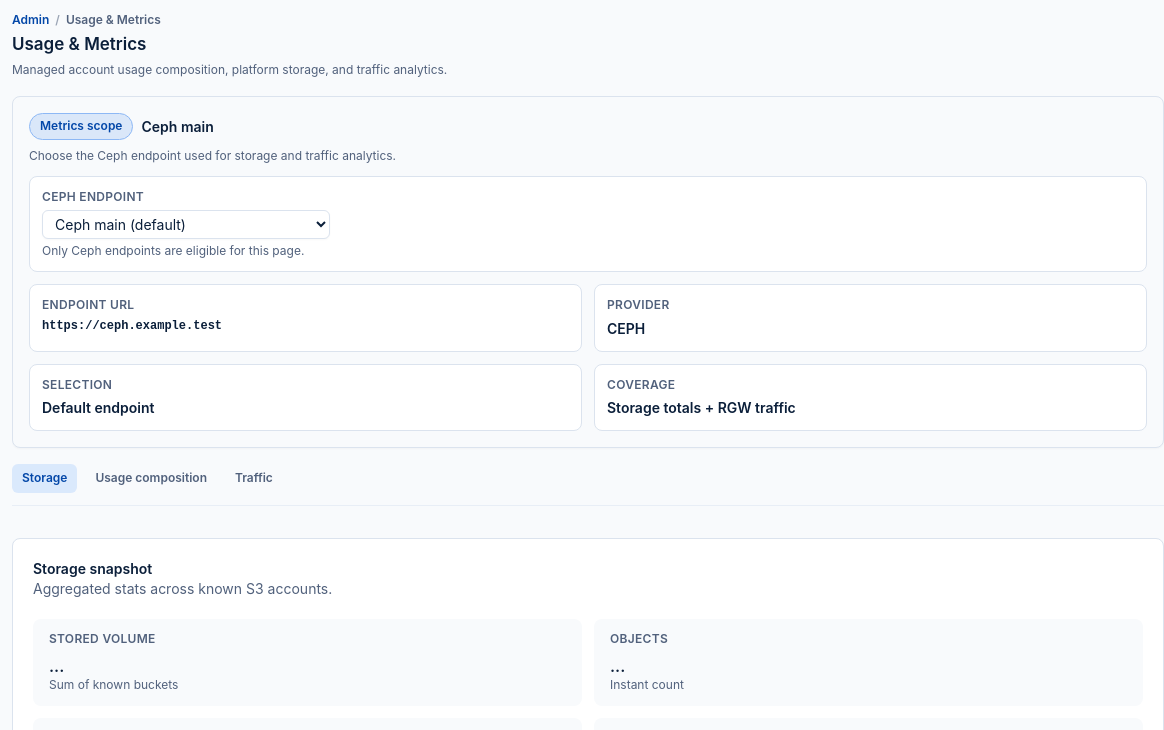
Test: AdminMetricsPage › keeps disabled usage logs inside the traffic card without empty counters
Click the tab "Traffic": (254, 478) [225,464,283,492]
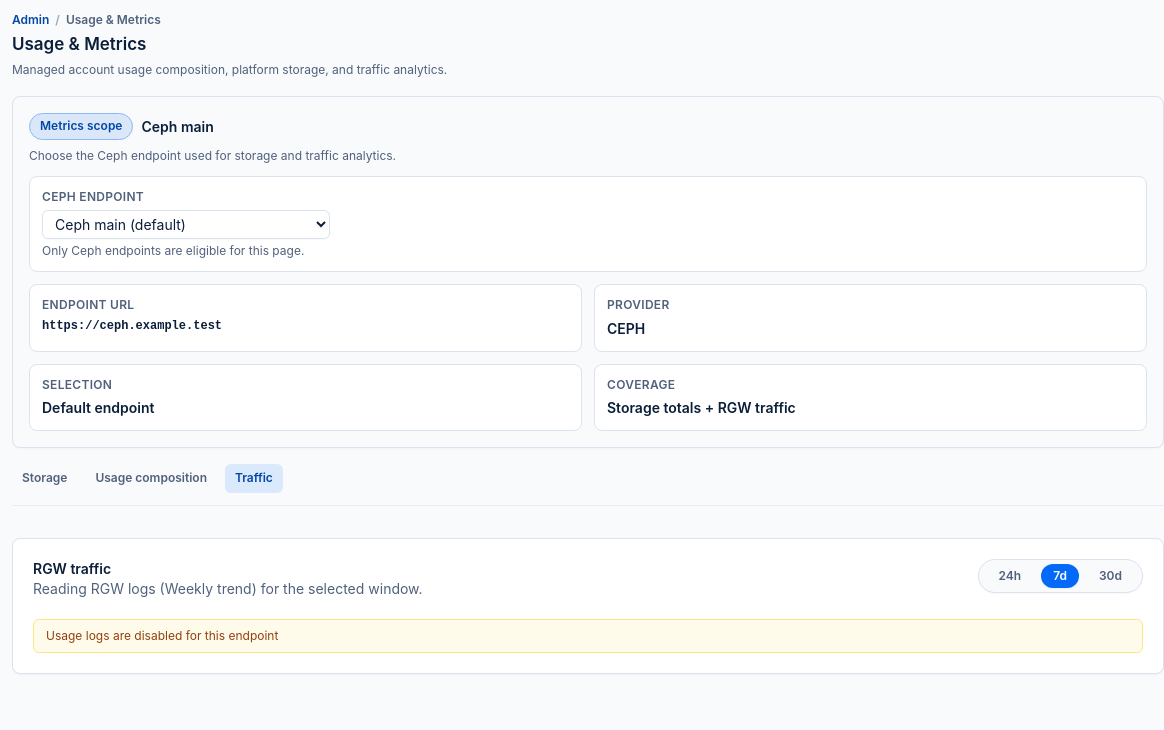
Expected: the text "Usage logs are disabled for this endpoint" is shown, [46,628,278,643]
Expected: the heading "RGW traffic" is shown, [33,560,111,576]
